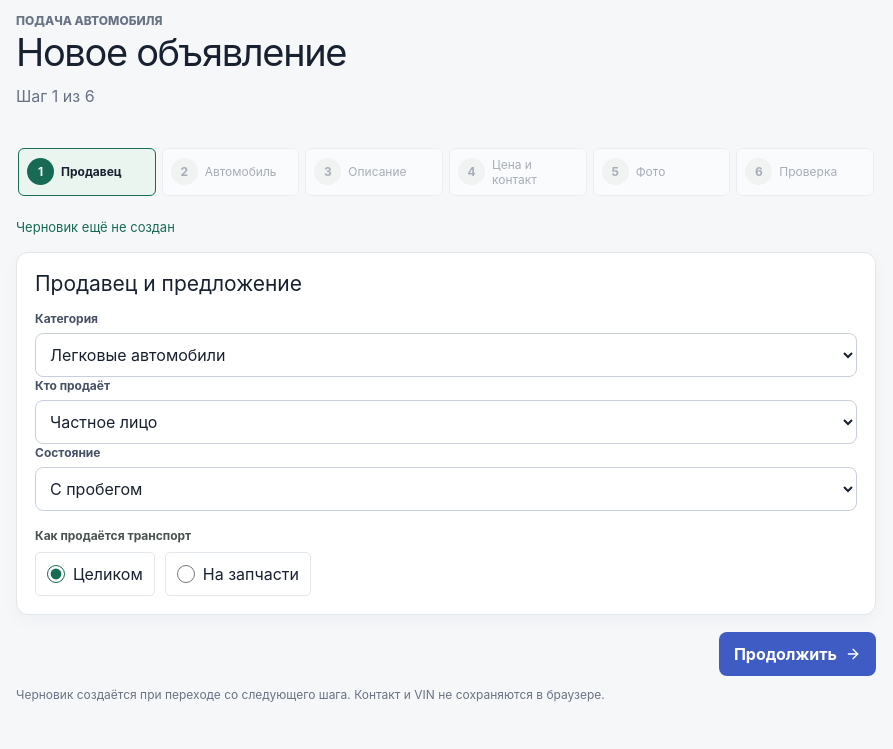
Test: manual vehicle entry › exposes all six named form steps and marks the current step
The width and height of the screenshot is (893, 749).
Expected: the button "2 Автомобиль" is disabled, [162,148,299,196]
Click the button "Продолжить" at (797, 654), box [719,632,876,676]
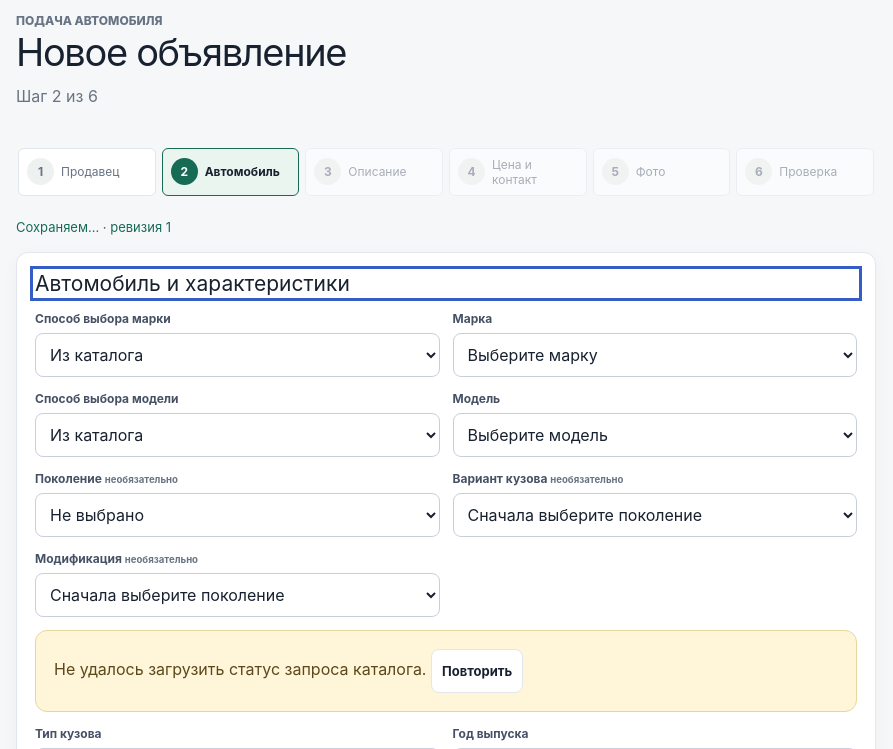
Expected: the message "Шаг 2 из 6" is shown, [16,86,98,106]
